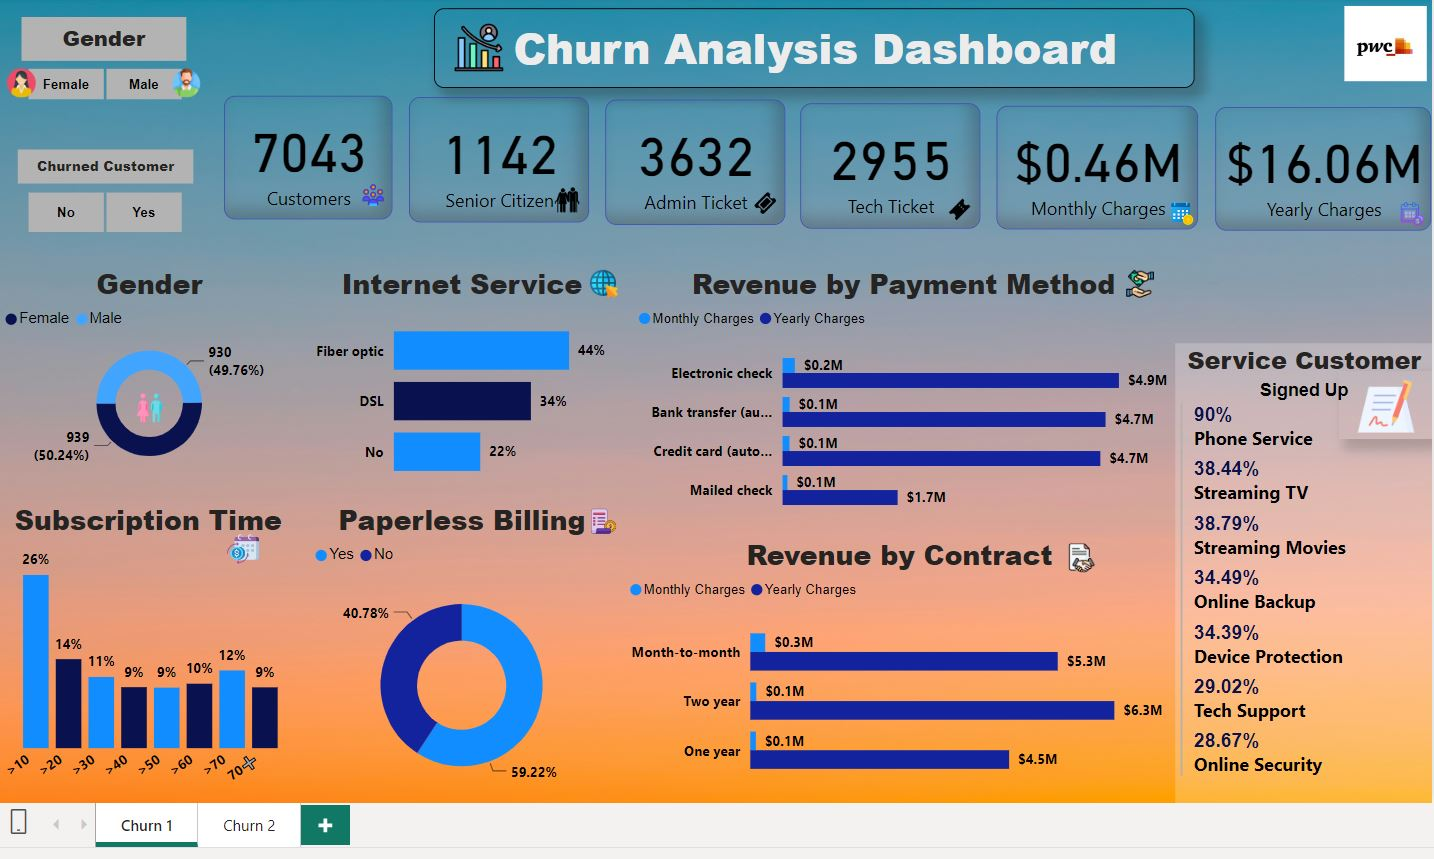

Layout of this report page (visuals, bound fields, positions):
{"tool":"powerbi","page":{"name":"Churn 1","canvas":[1280,720],"ordinal":0},"visuals":[{"type":"textbox","box":[388.4,10.5,679.1,70.9],"z":0},{"type":"group","id":"g1","title":"Group 1","box":[0,17.4,187.2,81],"z":0,"group":"g3"},{"type":"slicer","title":"Gender","fields":{"Values":["01 Churn-Dataset.gender"]},"box":[0,56.7,187.2,41.7],"z":0,"group":"g1"},{"type":"card","fields":{"Values":["All Measurement.Total employee"]},"box":[200.9,87.7,150,110.5],"z":0,"group":"g4"},{"type":"slicer","title":"Gender","fields":{"Values":["01 Churn-Dataset.Churn"]},"box":[0,167.1,187.2,49.1],"z":0,"group":"g2"},{"type":"image","box":[1196.5,0,83.7,82.6],"z":1000},{"type":"textbox","box":[19.7,17.4,146.9,39.3],"z":1000,"group":"g1"},{"type":"image","box":[147.7,59.1,39.5,35],"z":1000,"group":"g3"},{"type":"card","fields":{"Values":["Sum(01 Churn-Dataset.MonthlyCharges)"]},"box":[891.2,96.5,180,110.5],"z":1000,"group":"g4"},{"type":"textbox","box":[16.3,136,157,30.2],"z":1000,"group":"g2"},{"type":"image","box":[397.7,17.4,61.6,54.7],"z":2000},{"type":"image","box":[0,59.1,39.5,35],"z":2000,"group":"g3"},{"type":"card","fields":{"Values":["Sum(01 Churn-Dataset.TotalCharges)"]},"box":[1085.9,97.8,193,110.5],"z":2000,"group":"g4"},{"type":"card","fields":{"Values":["All Measurement.SeniorCitizenCount"]},"box":[365.6,89,160.5,111.6],"z":3000,"group":"g4"},{"type":"clusteredBarChart","title":"Revenue by Contract","fields":{"Category":["01 Churn-Dataset.Contract"],"Y":["Sum(01 Churn-Dataset.MonthlyCharges)","Sum(01 Churn-Dataset.TotalCharges)"]},"box":[558.1,480.3,491.9,232.6],"z":3000,"group":"g7"},{"type":"card","fields":{"Values":["All Measurement.Admin Ticket"]},"box":[540.8,91.5,160.5,111.6],"z":4000,"group":"g4"},{"type":"clusteredBarChart","title":"Revenue by Payment Method","fields":{"Category":["01 Churn-Dataset.PaymentMethod"],"Y":["Sum(01 Churn-Dataset.MonthlyCharges)","Sum(01 Churn-Dataset.TotalCharges)"]},"box":[566.2,238.4,483.7,234.9],"z":4000,"group":"g7"},{"type":"card","fields":{"Values":["All Measurement.Tech Ticket"]},"box":[716,94,160.5,111.6],"z":5000,"group":"g4"},{"type":"multiRowCard","title":"Service Customer","fields":{"Values":["All Measurement.% Phone Service","All Measurement.% Streaming TV","All Measurement.% Streaming Movies","All Measurement.% Online Backup","All Measurement.Device Protection","All Measurement.% Tech Support","All Measurement.% Online Security"]},"box":[1050,308.2,230.2,411.6],"z":5000,"group":"g7"},{"type":"image","box":[839.3,174.4,37.2,29.1],"z":6000,"group":"g4"},{"type":"clusteredColumnChart","title":"Subscription Time","fields":{"Y":["All Measurement.Total employee"],"Category":["01 Churn-Dataset.Tenure Status"]},"box":[0,448.9,266.3,270.9],"z":6000,"group":"g6"},{"type":"image","box":[667.2,168.6,33.7,29.1],"z":7000,"group":"g4"},{"type":"clusteredBarChart","title":"Internet Service","fields":{"Y":["All Measurement.Total employee"],"Category":["01 Churn-Dataset.InternetService"]},"box":[276.7,238.4,273.3,209.3],"z":7000,"group":"g6"},{"type":"image","box":[489.3,165.1,37.2,32.6],"z":8000,"group":"g4"},{"type":"donutChart","title":"Paperless Billing","fields":{"Category":["01 Churn-Dataset.PaperlessBilling"],"Y":["Divide(All Measurement.Total employee, ScopedEval(All Measurement.Total employee, []))"]},"box":[277,449,273,271],"z":8000,"group":"g6"},{"type":"image","box":[1039.3,175.6,32.6,32.6],"z":9000,"group":"g4"},{"type":"donutChart","title":"Gender","fields":{"Category":["01 Churn-Dataset.gender"],"Y":["All Measurement.Count churns"]},"box":[0,238.4,268.6,189.5],"z":9000,"group":"g6"},{"type":"group","id":"g2","title":"Group 2","box":[0,136,187.2,80.2],"z":10000,"group":"g5"},{"type":"image","box":[1245.1,175.6,34.9,34.9],"z":10000,"group":"g4"},{"type":"group","id":"g3","title":"Group 3","box":[0,17.4,187.2,81],"z":11000,"group":"g5"},{"type":"image","box":[318.3,160.5,32.6,32.6],"z":11000,"group":"g4"},{"type":"image","box":[1196.5,333.7,83.7,60.5],"z":12000},{"type":"image","box":[107,348.8,55,35],"z":13000},{"type":"image","box":[187.2,473.3,60.5,40],"z":14000},{"type":"image","box":[510.5,238.4,60.5,34.9],"z":15000},{"type":"image","box":[510.5,448.8,60.5,39.5],"z":16000},{"type":"image","box":[936,483.7,60.5,35],"z":17000},{"type":"image","box":[989.5,238.4,60.5,34.9],"z":18000},{"type":"group","id":"g4","title":"Group 3","box":[200.9,87.7,1079.1,122.8],"z":19000},{"type":"group","id":"g5","title":"Group 4","box":[0,17.4,187.2,198.8],"z":19001},{"type":"group","id":"g6","title":"Group 5","box":[0,238.4,550,481.6],"z":19002},{"type":"group","id":"g7","title":"Group 6","box":[558.1,238.4,722.1,481.4],"z":19003}]}

Visuals, with their boxes on the page's 1280x720 design canvas (x1, y1, x2, y2). These are canvas units, not pixel positions in the 1434x859 screenshot, which may show the page scaled, cropped or inside an application window:
textbox: 388,10,1068,81
"Group 1" group: 0,17,187,98
"Gender" slicer: 0,57,187,98
card - All Measurement.Total employee: 201,88,351,198
"Gender" slicer: 0,167,187,216
image: 1196,0,1280,83
textbox: 20,17,167,57
image: 148,59,187,94
card - Sum(01 Churn-Dataset.MonthlyCharges): 891,96,1071,207
textbox: 16,136,173,166
image: 398,17,459,72
image: 0,59,40,94
card - Sum(01 Churn-Dataset.TotalCharges): 1086,98,1279,208
card - All Measurement.SeniorCitizenCount: 366,89,526,201
"Revenue by Contract" clusteredBarChart: 558,480,1050,713
card - All Measurement.Admin Ticket: 541,92,701,203
"Revenue by Payment Method" clusteredBarChart: 566,238,1050,473
card - All Measurement.Tech Ticket: 716,94,876,206
"Service Customer" multiRowCard: 1050,308,1280,720
image: 839,174,876,204
"Subscription Time" clusteredColumnChart: 0,449,266,720
image: 667,169,701,198
"Internet Service" clusteredBarChart: 277,238,550,448
image: 489,165,526,198
"Paperless Billing" donutChart: 277,449,550,720
image: 1039,176,1072,208
"Gender" donutChart: 0,238,269,428
"Group 2" group: 0,136,187,216
image: 1245,176,1280,210
"Group 3" group: 0,17,187,98
image: 318,160,351,193
image: 1196,334,1280,394
image: 107,349,162,384
image: 187,473,248,513
image: 510,238,571,273
image: 510,449,571,488
image: 936,484,996,519
image: 990,238,1050,273
"Group 3" group: 201,88,1280,210
"Group 4" group: 0,17,187,216
"Group 5" group: 0,238,550,720
"Group 6" group: 558,238,1280,720
